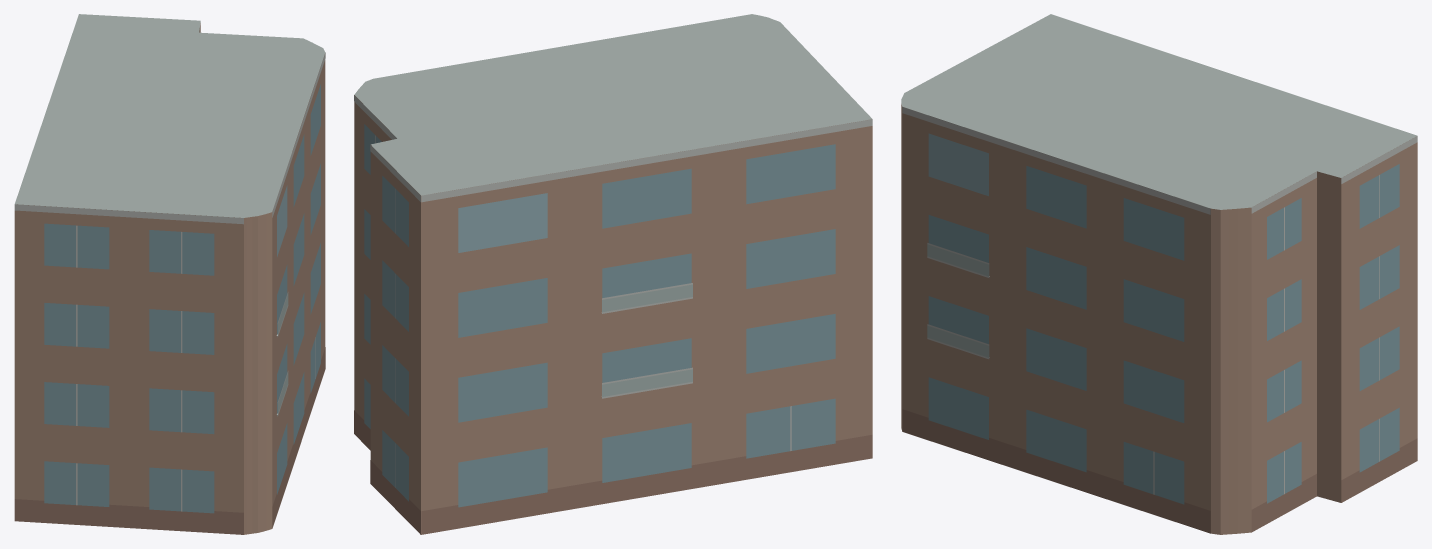
File: survey-upis-32848722.glb
The picture shows the model from 3 angles, left to right: view 1: azimuth 30°, elevation 25°; view 2: azimuth 150°, elevation 25°; view 3: azimuth 270°, elevation 25°; orthographic projection. The views are drawn at different scales.
Visible parts, largest first — view 1: survey-upis-32848722.tmp; view 2: survey-upis-32848722.tmp; view 3: survey-upis-32848722.tmp.
Boxes of the visible parts, box(x1,y1,x2,y2) form: survey-upis-32848722.tmp: box(14, 14, 325, 534); survey-upis-32848722.tmp: box(354, 14, 872, 534); survey-upis-32848722.tmp: box(901, 14, 1417, 534).
Bounding box in the file's own units: 16.03 × 12.4 × 17.86.
